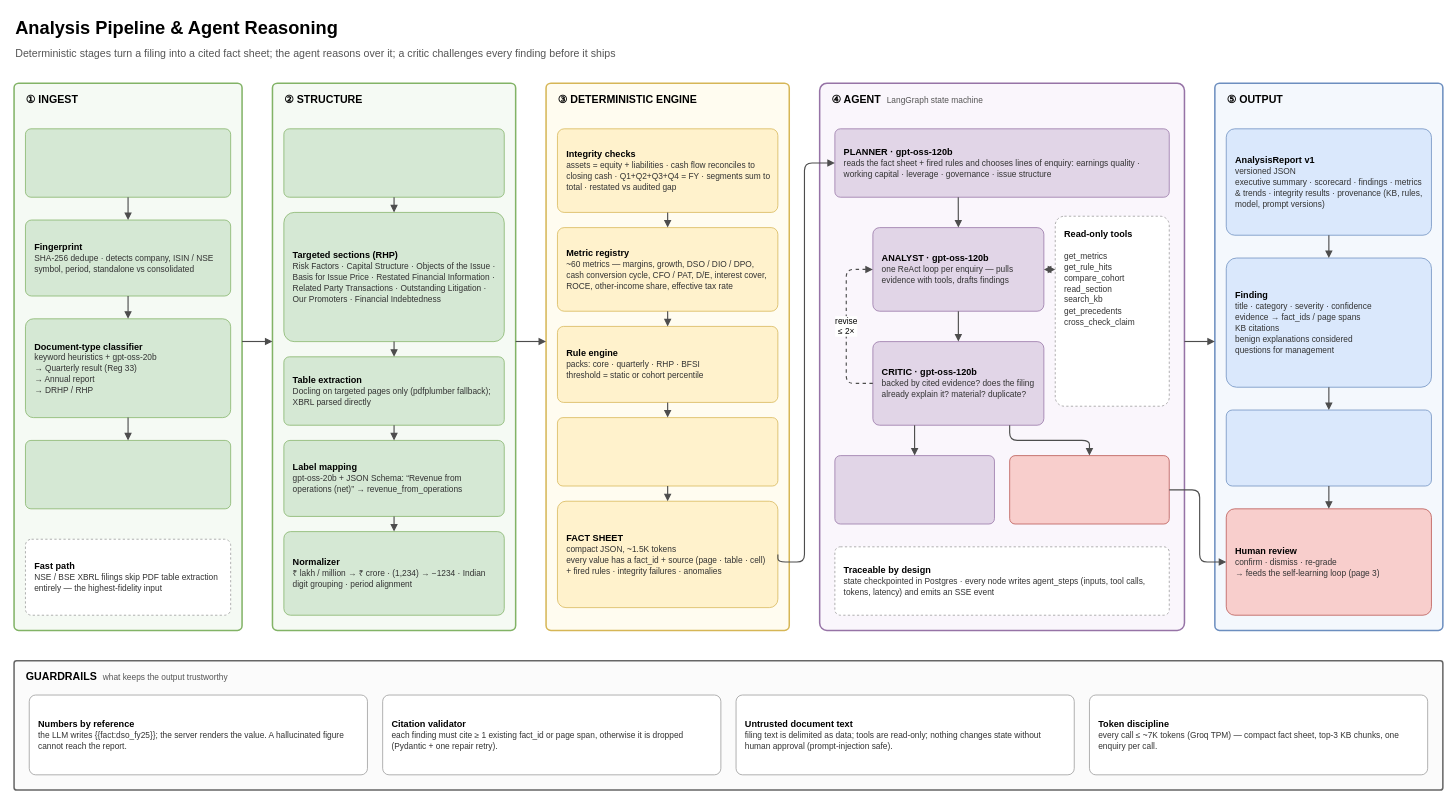
Image size: 1456x803. Some labels were removed from this diagram. Each missing label, with the centre of its shape:
"Anomaly detector robust z-score (median / MAD) vs own history and sector cohort" goes at (x=667, y=451).
"COMPOSER scorecard + executive summary" goes at (x=914, y=489).
"Delivery persisted in Postgres · SSE to UI · webhook analysis.completed" goes at (x=1328, y=447).
"Document in PDF · XBRL · XLSX · URL (upload, sample library or platform API)" goes at (x=128, y=162).
"Persist file → Supabase Storage documents row · job created" goes at (x=128, y=474).
"RULE PROPOSER anomalies no rule covers → candidate rules" goes at (x=1089, y=489).
"Section router PDF bookmarks / TOC first; gpt-oss-20b fallback on page headers" goes at (x=393, y=162).
